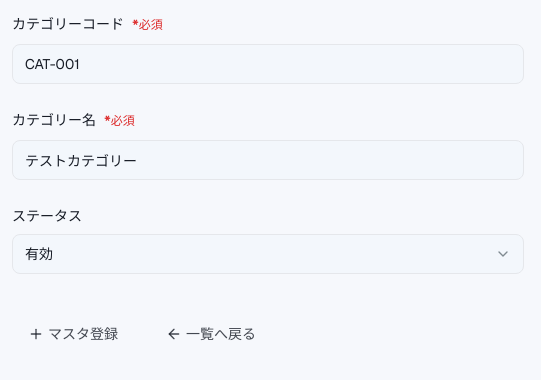
it: CategoryForm › ステータスのSelectを変更できること
Click the button "有効" at (39, 254), box [12, 234, 524, 274]
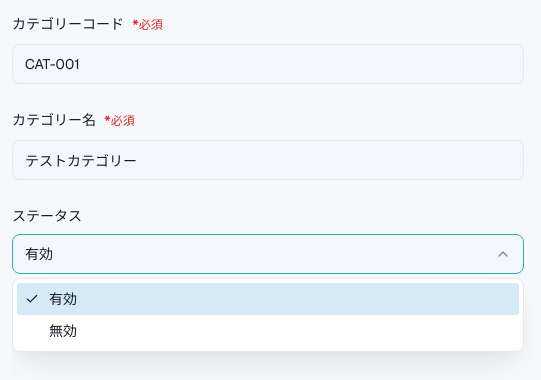
Now the option "無効" is shown, box [49, 322, 77, 340]
